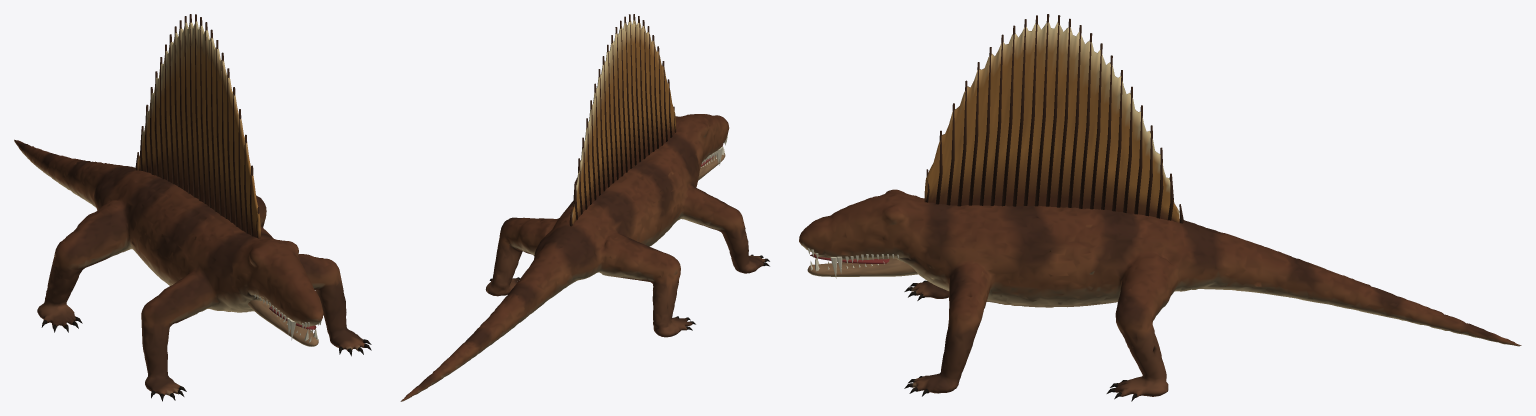
Rendered from Dimetrodon.fbx.
3 renders of one model, left to right at view 1: azimuth 30°, elevation 25°; view 2: azimuth 150°, elevation 25°; view 3: azimuth 270°, elevation 25°, orthographic. The views are drawn at different scales.
Visible parts, largest first — view 1: Dimetrodon; view 2: Dimetrodon; view 3: Dimetrodon.
Part boxes in pixels (x1=…): Dimetrodon: x1=14, y1=14, x2=371, y2=401; Dimetrodon: x1=400, y1=14, x2=769, y2=401; Dimetrodon: x1=799, y1=14, x2=1521, y2=401.
Bounding box in the file's own units: 0.9347 × 1.17 × 2.33.
